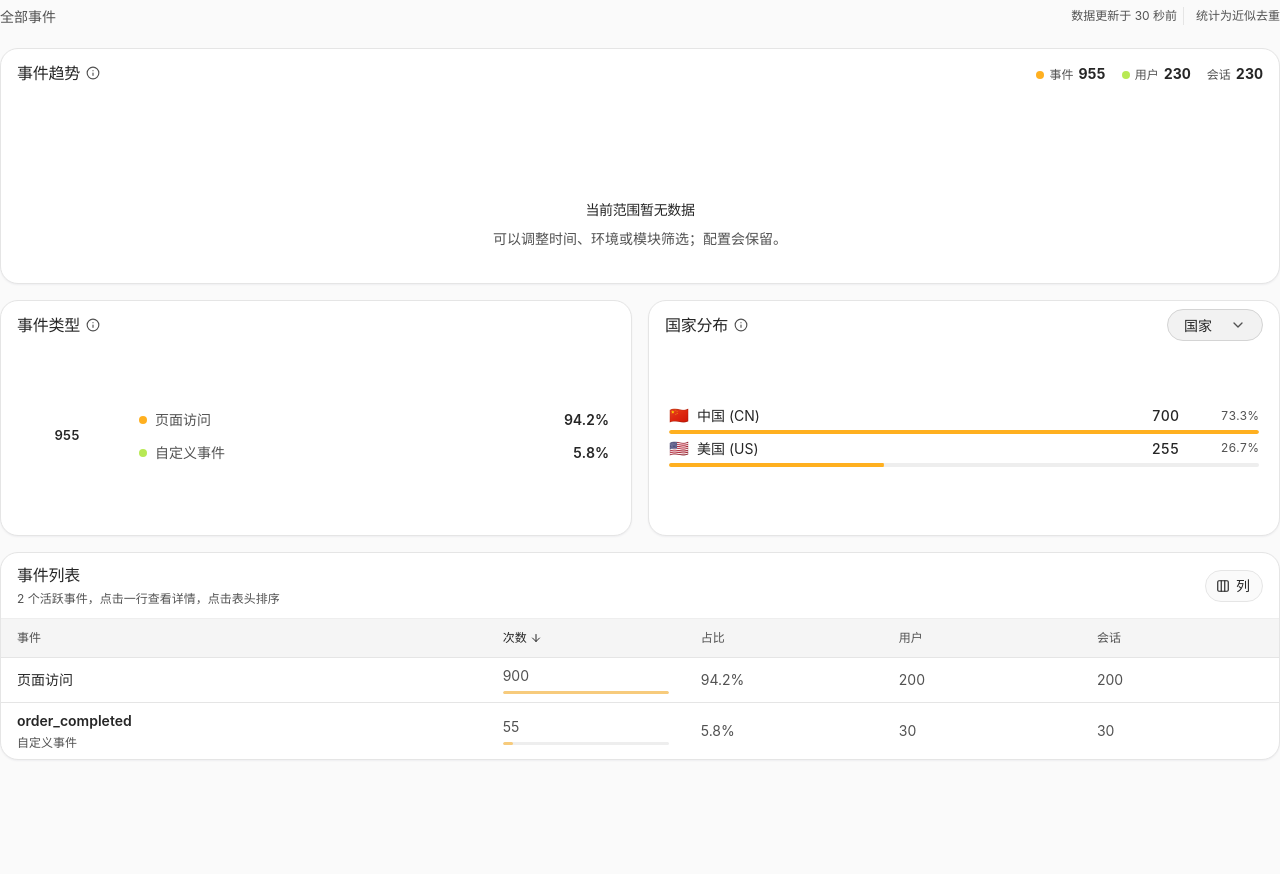
Scenario: event explorer › removes a chosen value from the drawer
The image size is (1280, 874).
Click the text "order_completed".
click(74, 720)  # box [1,702,1279,759]
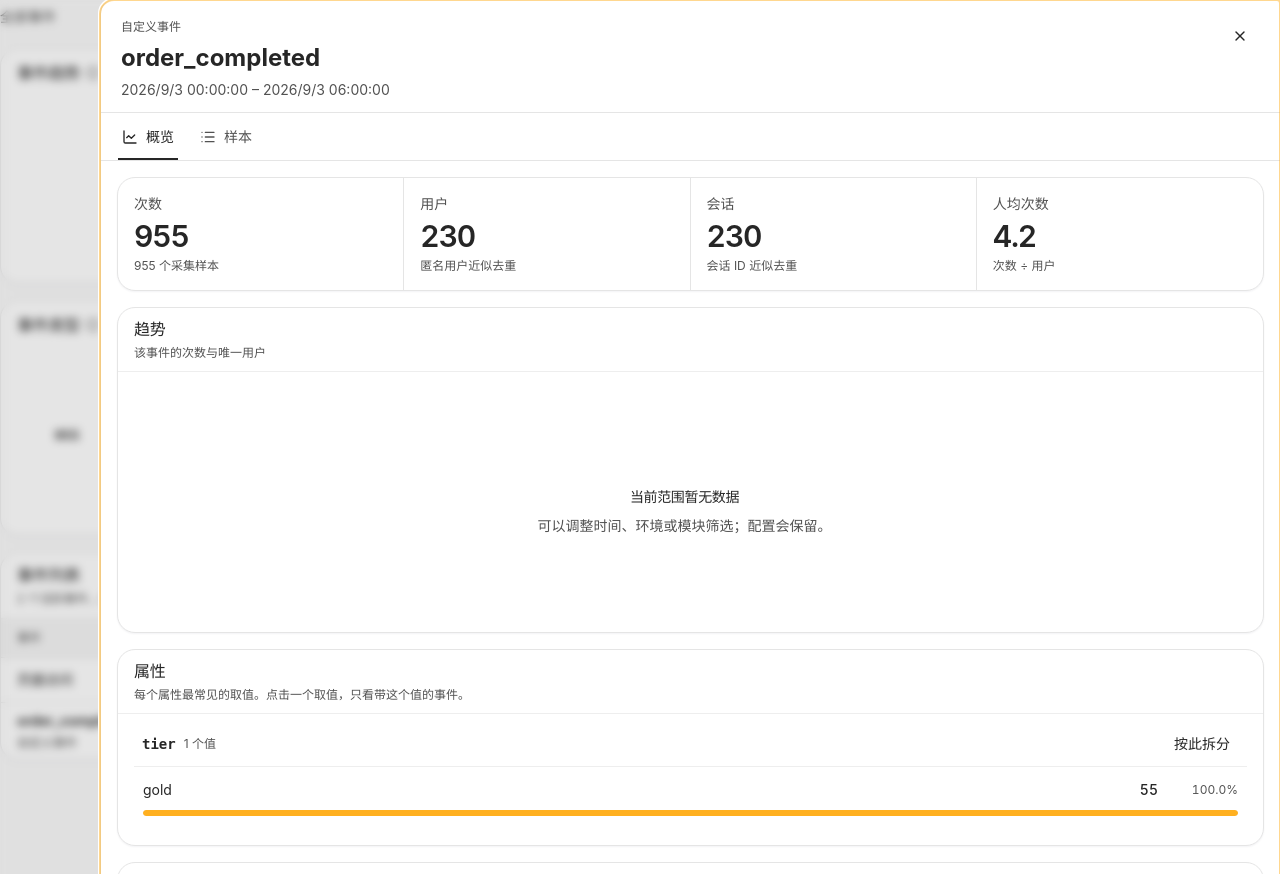
Click the button with aria-label "只看 tier = gold".
click(1209, 790)  # box [134,767,1247,829]
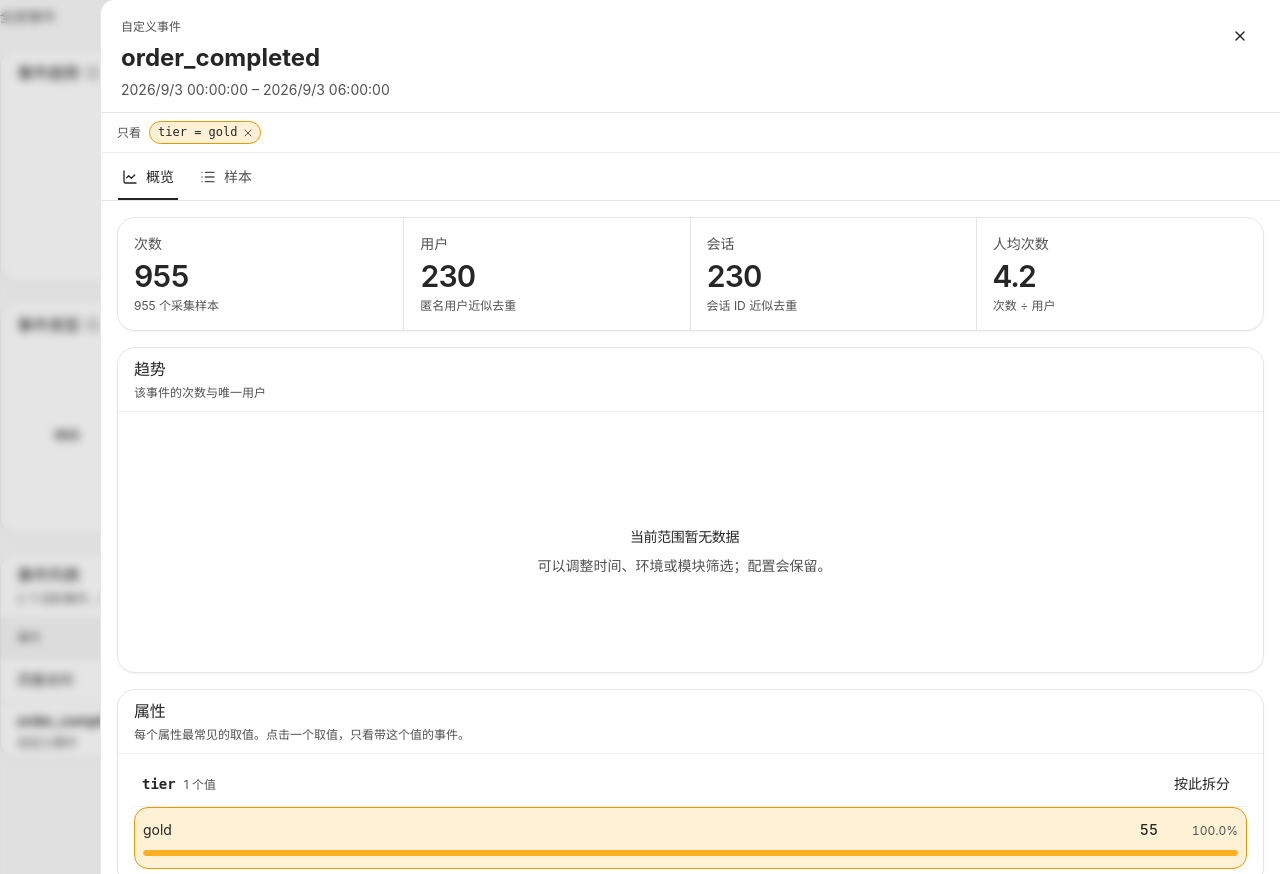
Click the button named "移除 tier = gold".
click(248, 133)  # box [240,125,256,141]
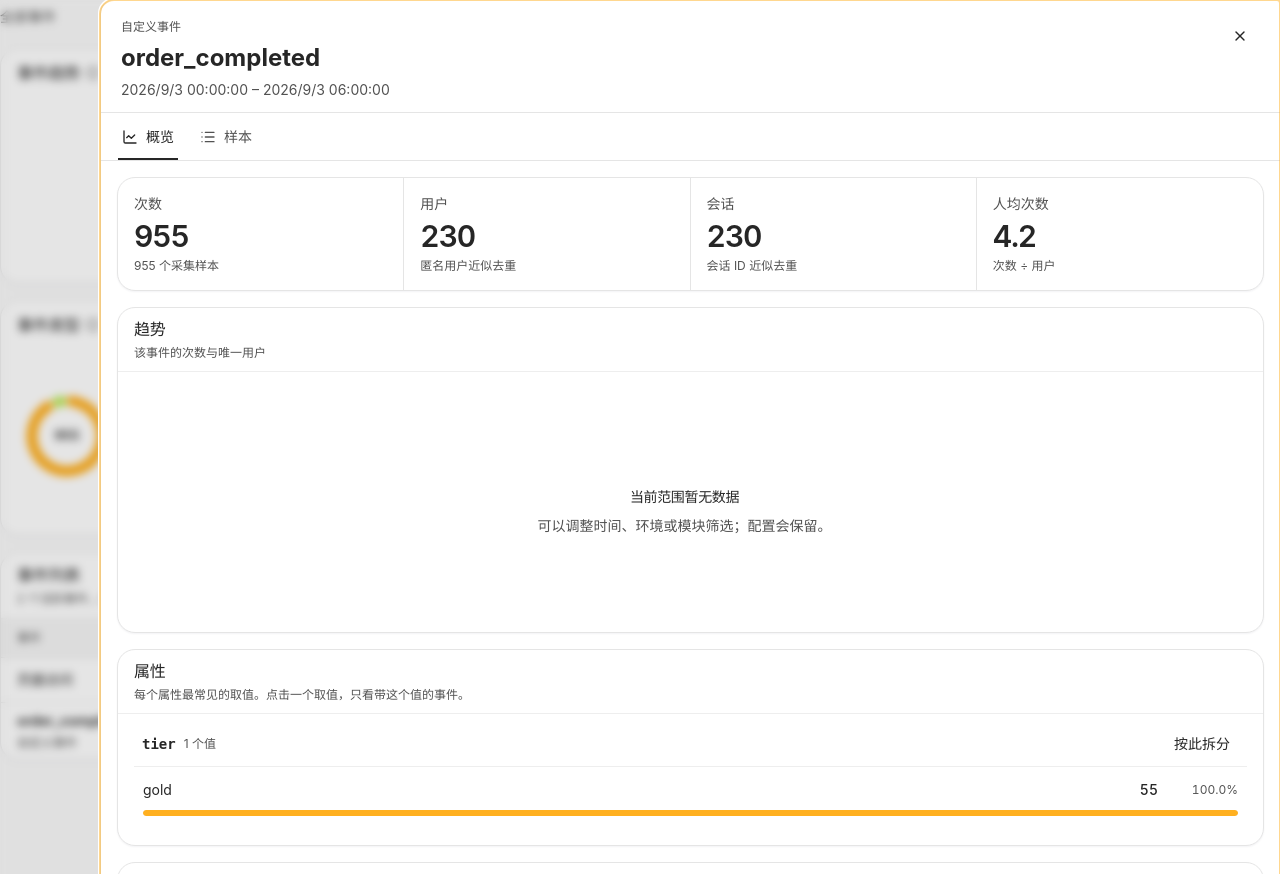
Result: the field labelled "详情筛选" is gone
